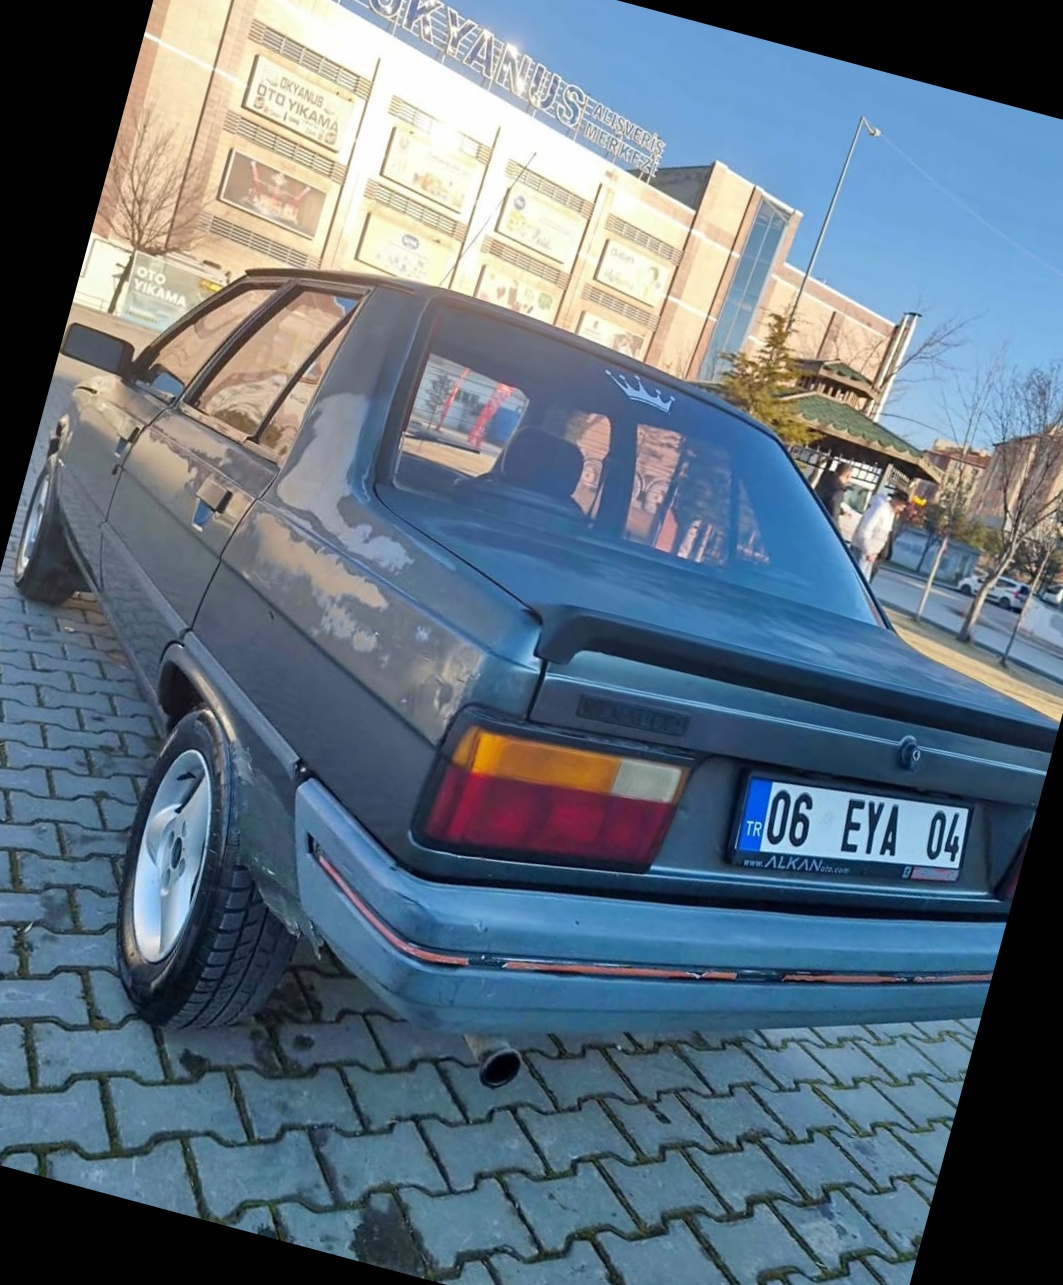plaka: (756, 780, 980, 871)
